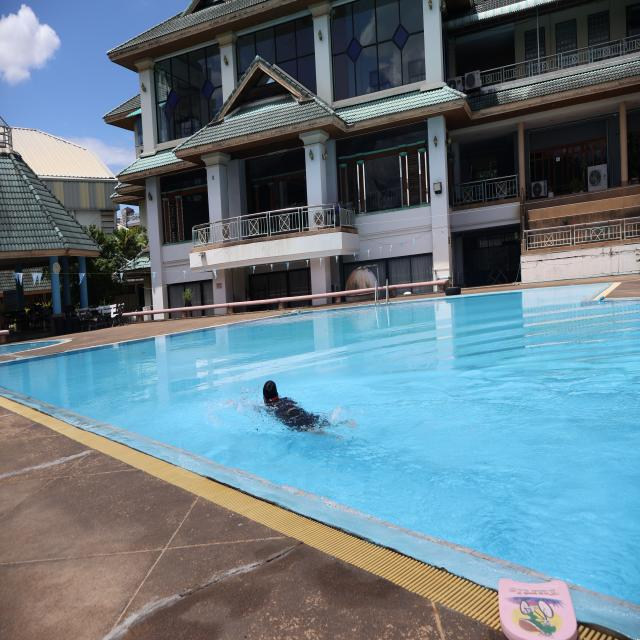Swimming: (220, 375, 349, 434)
